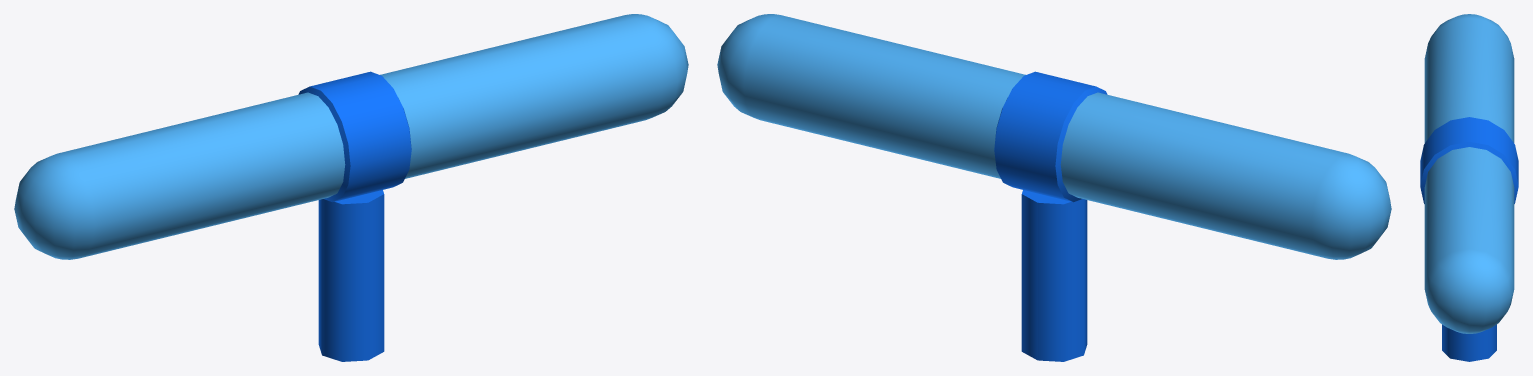
File: Gimmick_01.fbx
3 views of the same model, side by side, from view 1: azimuth 30°, elevation 25°; view 2: azimuth 150°, elevation 25°; view 3: azimuth 270°, elevation 25° (orthographic). The views are drawn at different scales.
Parts seen in each view (by area): view 1: Gimmick_01; view 2: Gimmick_01; view 3: Gimmick_01.
Part boxes in pixels (<box>): Gimmick_01: <box>14,14,688,361</box>; Gimmick_01: <box>717,14,1391,361</box>; Gimmick_01: <box>1420,14,1518,361</box>.
Size of the model in its own units: 11.64 by 4.46 by 1.81.
